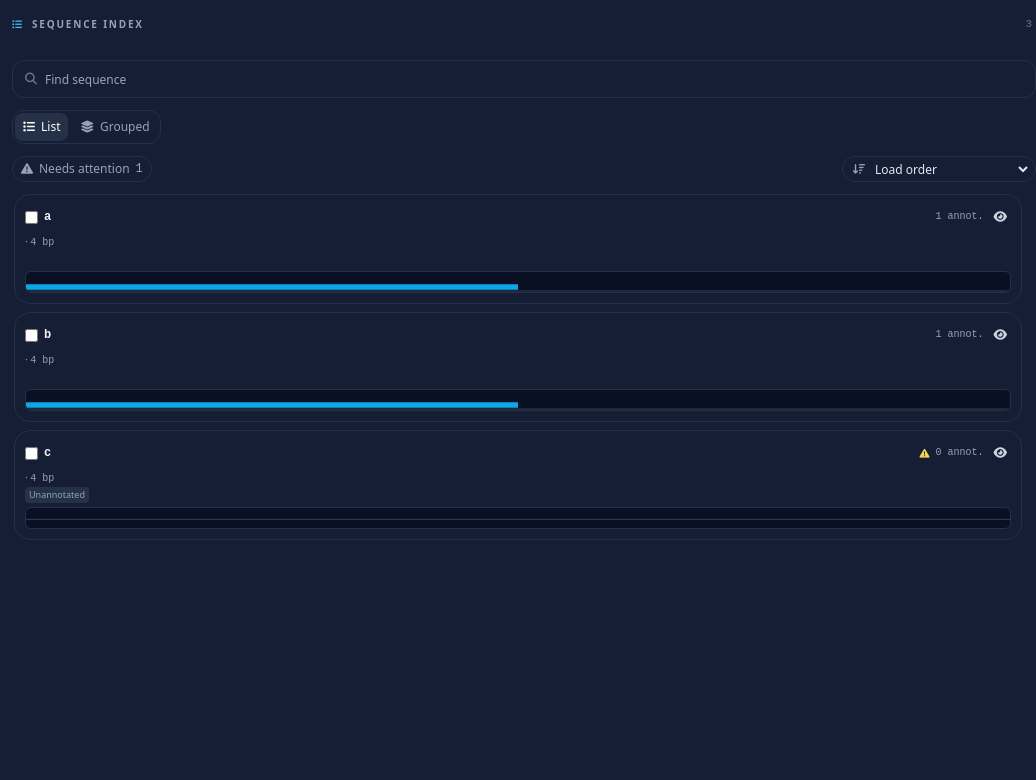
shows hidden counts and restores sequences through the title controls
Expected: the heading "Sequence index" is shown, [12,16,144,32]
Click the button named "Hide a in hub" at (1000, 217), box [990,205,1011,229]
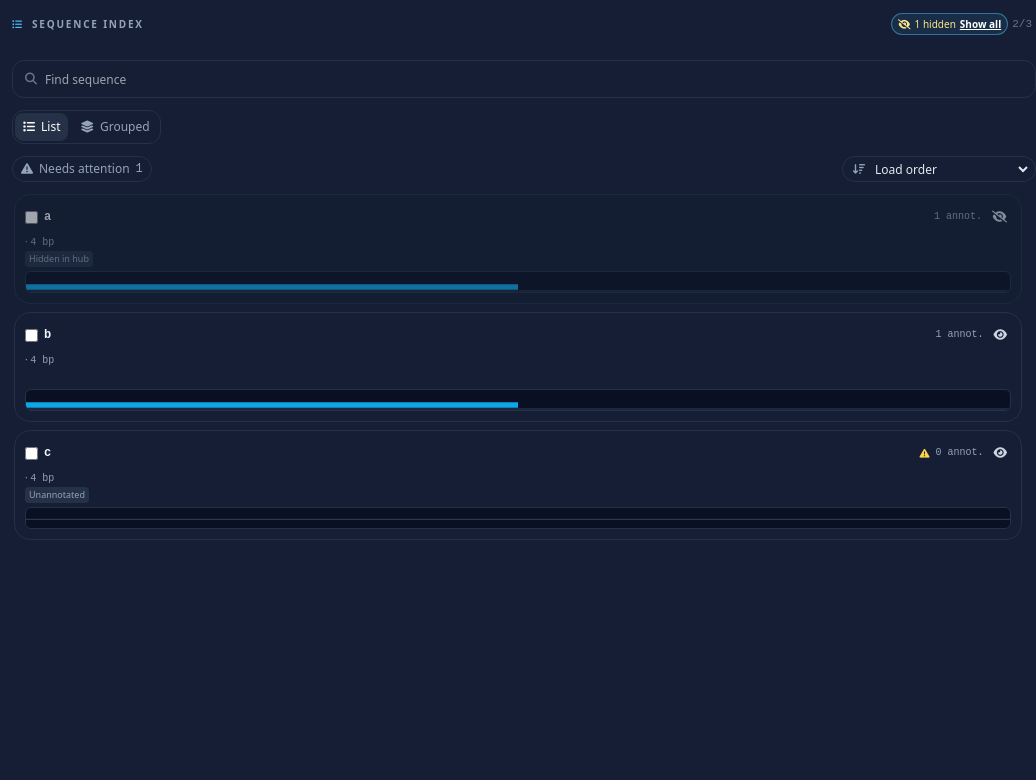
Expected: the text "2/3" is shown, [1012,16,1032,32]
Click the button "1 hidden Show all" at (950, 24), box [891,13,1008,35]
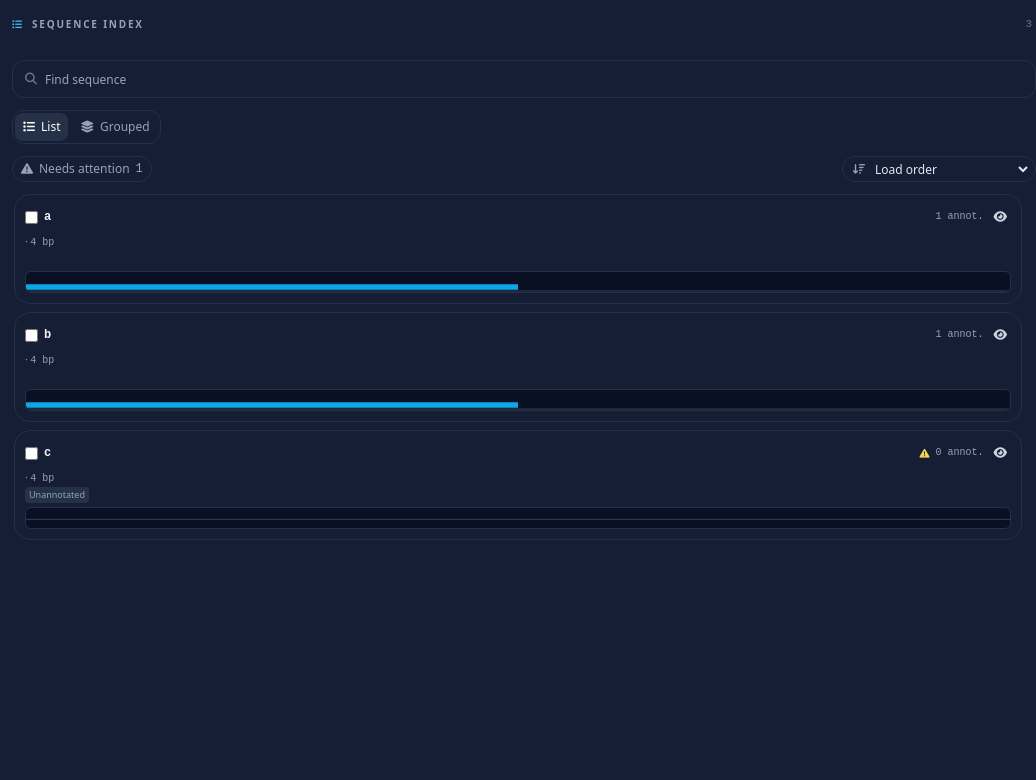
Expected: the heading "Sequence index" is shown, [12,16,144,32]
Expected: the button "Show all" is gone
